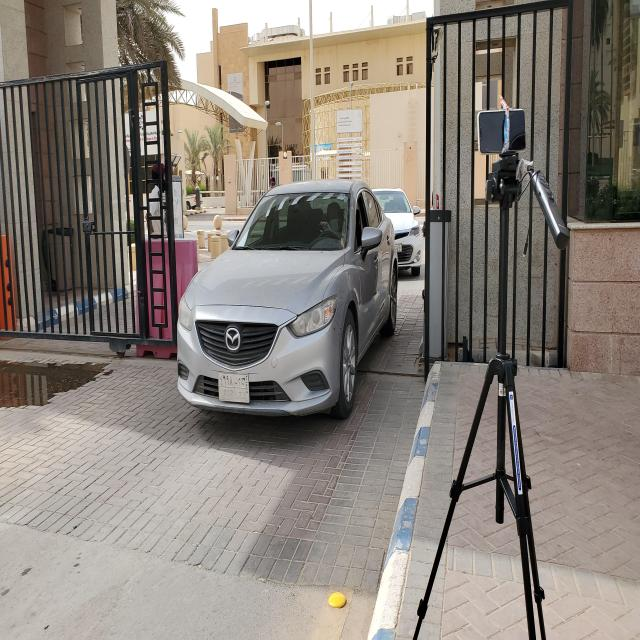license_plate: (218, 372, 249, 402), (394, 244, 402, 252)
